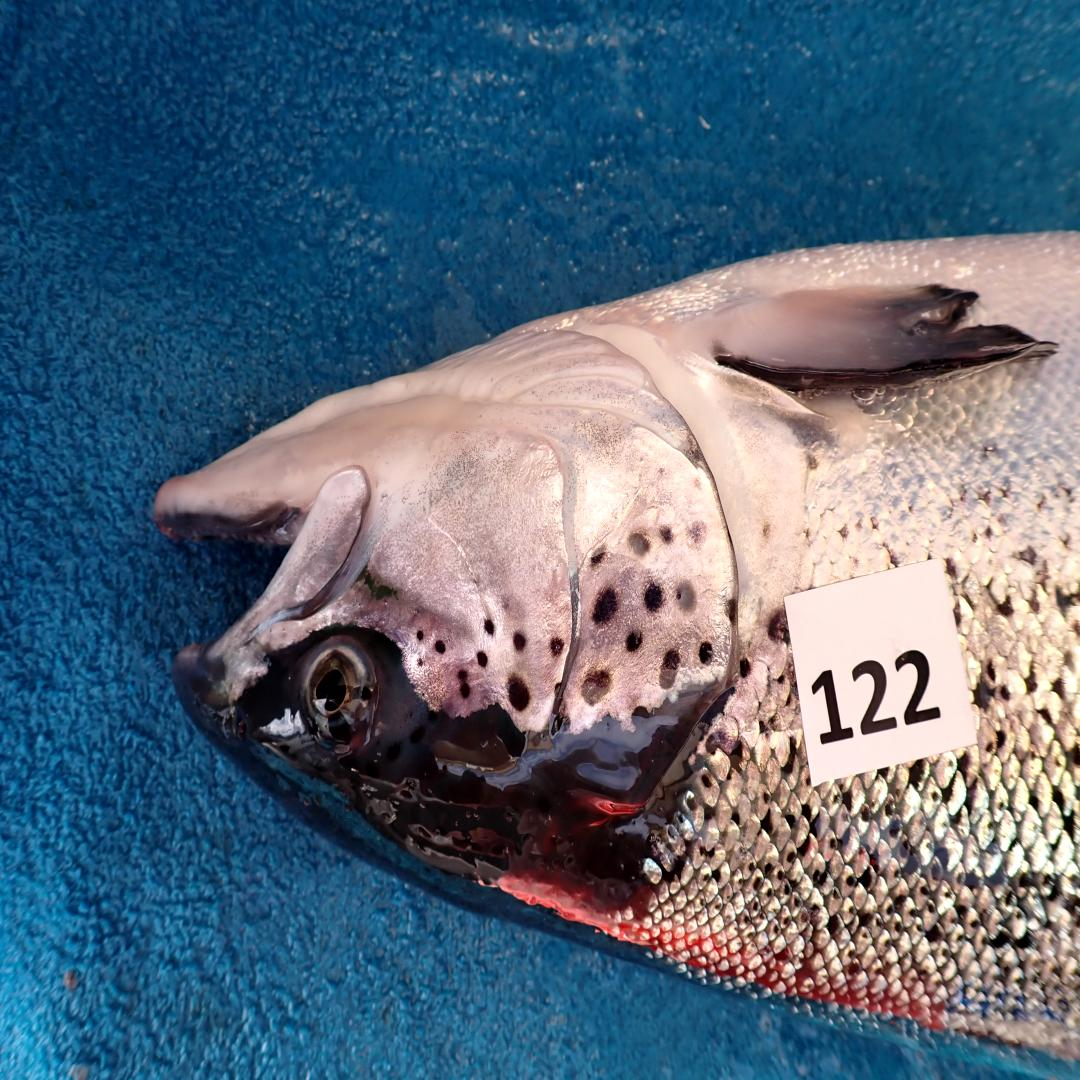roi: (371, 326, 740, 732)
